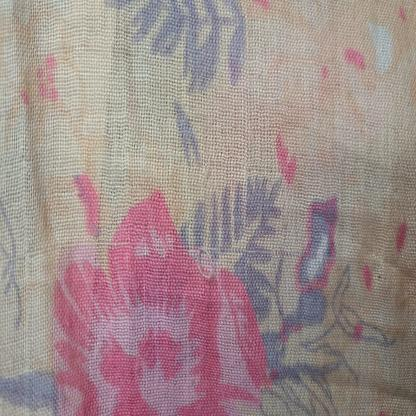spot: (376, 270, 384, 280)
